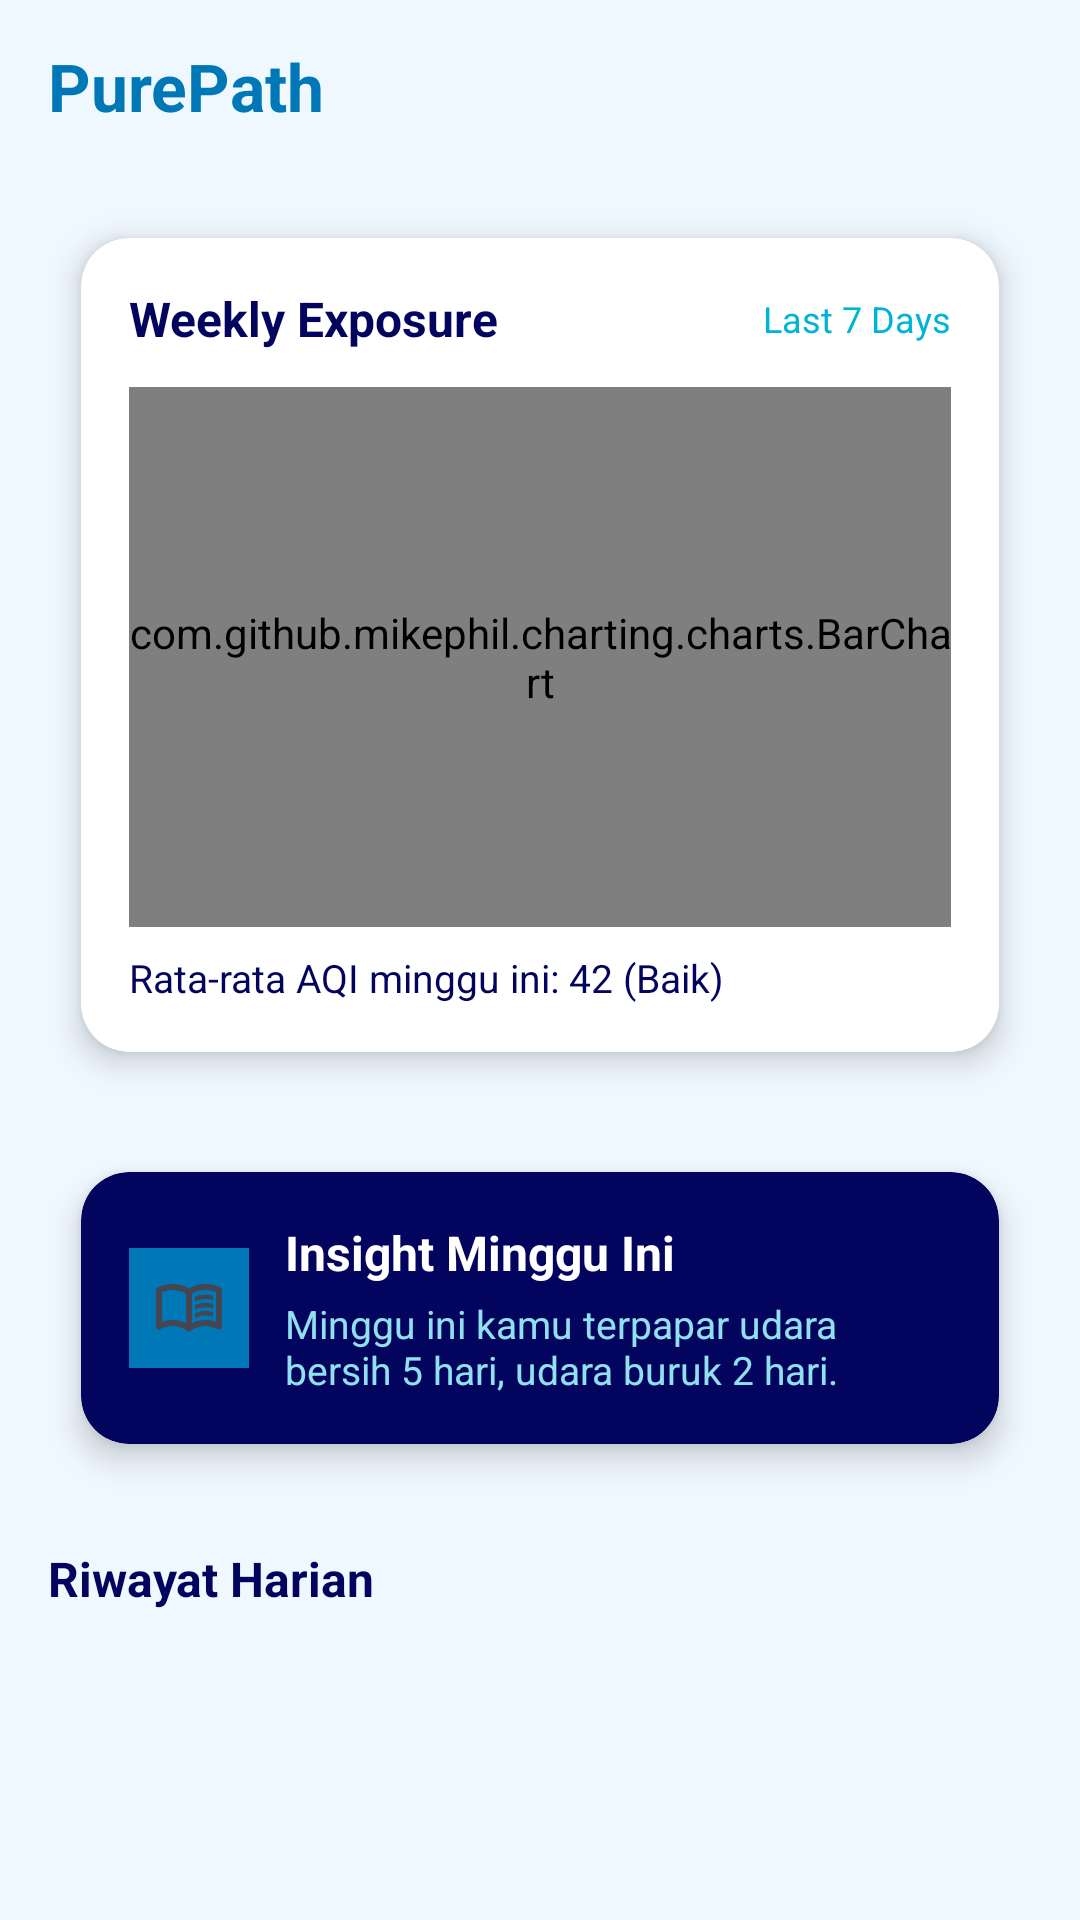

Screen size 1080x1920. Icon name, then its box in pixels as (x1, y1, x2, y2):
diary: (129, 1248, 249, 1368)
